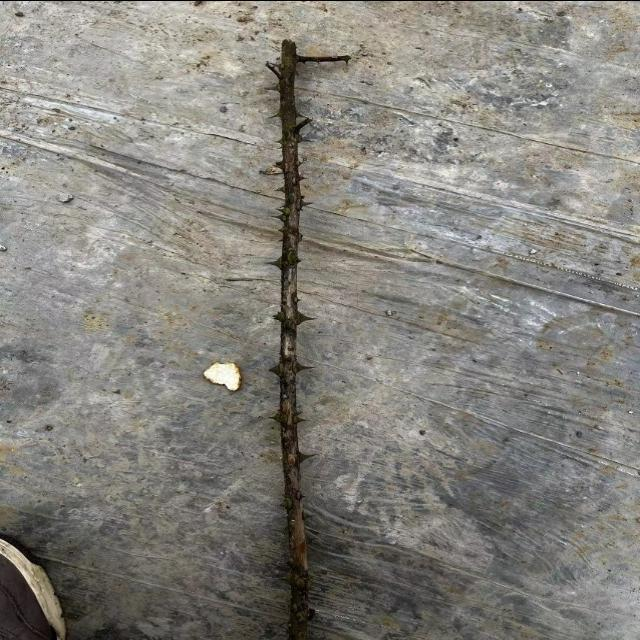branch: (277, 37, 312, 640)
